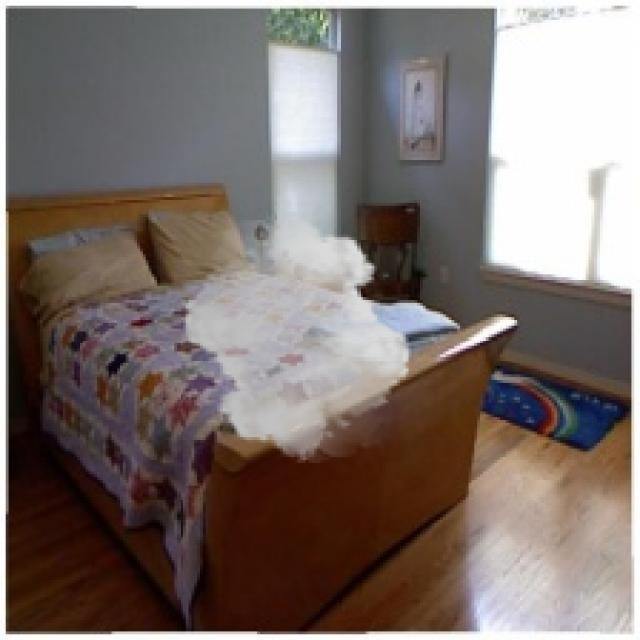smoke: (174, 214, 420, 463)
